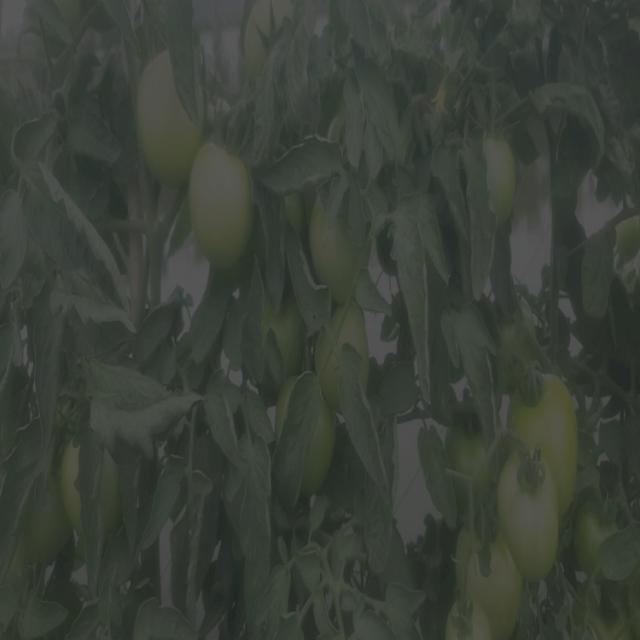tomato: (187, 135, 258, 273), (515, 374, 577, 517), (134, 53, 194, 179), (501, 461, 562, 583), (466, 546, 521, 640), (310, 198, 357, 303), (450, 425, 489, 500), (314, 300, 343, 398), (489, 133, 518, 230), (60, 439, 85, 545), (100, 451, 127, 543), (313, 401, 338, 497), (574, 510, 609, 571), (276, 299, 302, 377), (445, 599, 481, 637), (351, 307, 366, 353)
